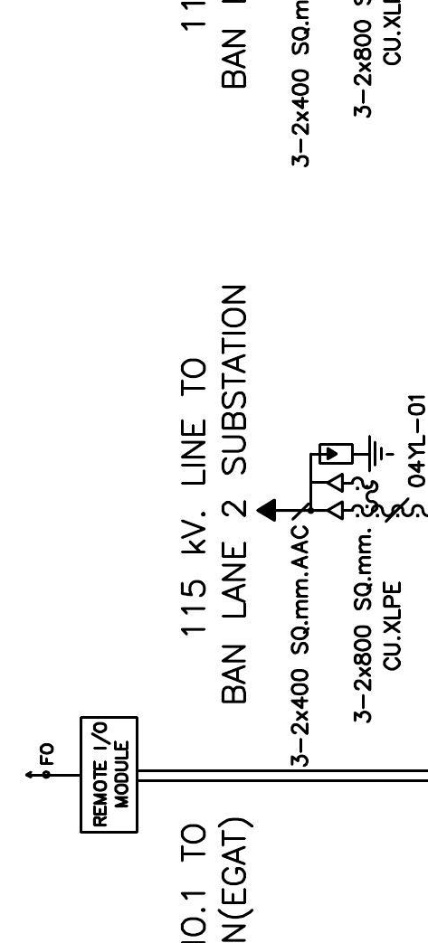115_la: (318, 434, 395, 473)
remote_io_module: (80, 716, 139, 834)
terminator_double: (308, 472, 344, 522)
